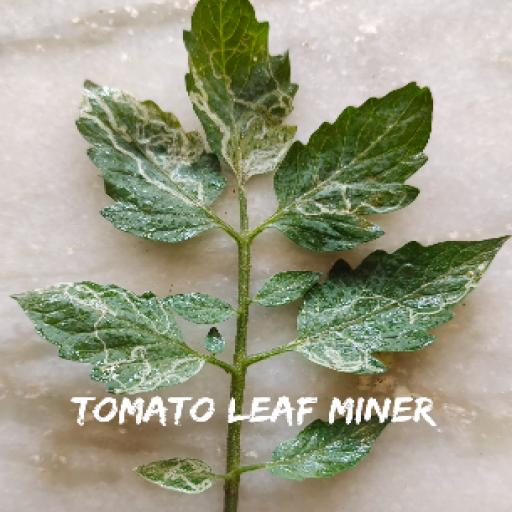Leaf Miner: (294, 233, 512, 374), (274, 79, 434, 253), (72, 76, 228, 244), (6, 278, 206, 396), (179, 0, 297, 176), (134, 456, 216, 494)
